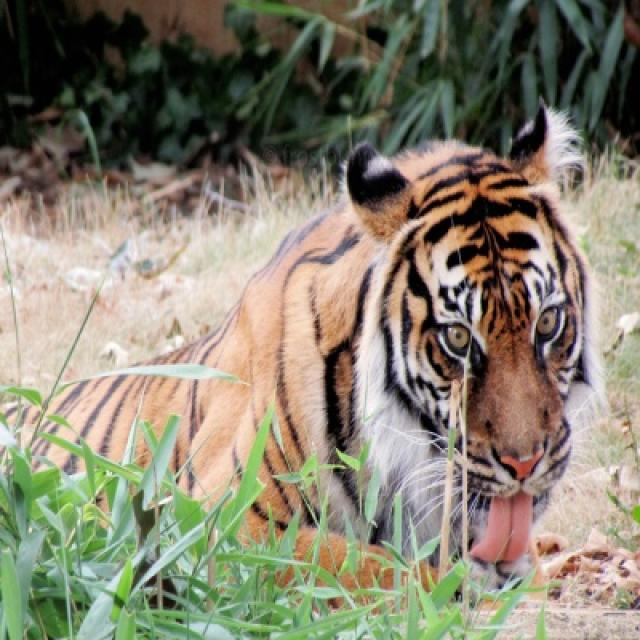Tiger: (12, 101, 638, 605)
